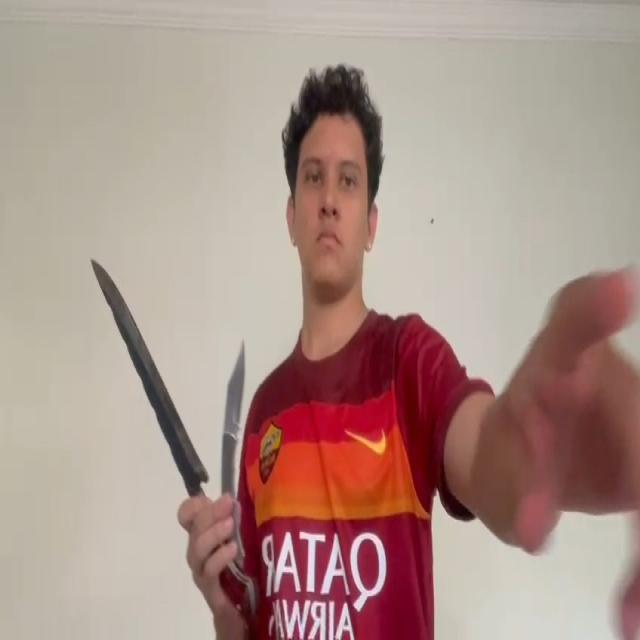knife: (89, 258, 207, 490), (222, 342, 247, 434)
